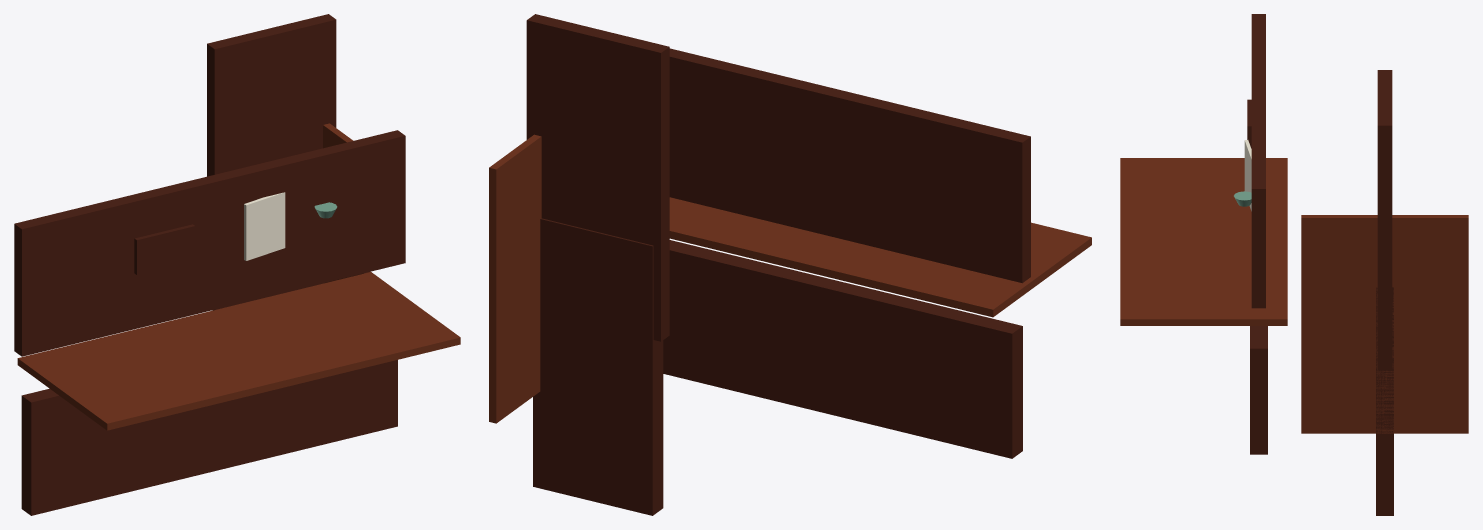
File: pal1-inn-counter.glb
The picture shows the model from 3 angles, left to right: view 1: azimuth 30°, elevation 25°; view 2: azimuth 150°, elevation 25°; view 3: azimuth 270°, elevation 25°; orthographic projection. The views are drawn at different scales.
Size of the model in its own units: 2.3 by 2.41 by 1.94.
